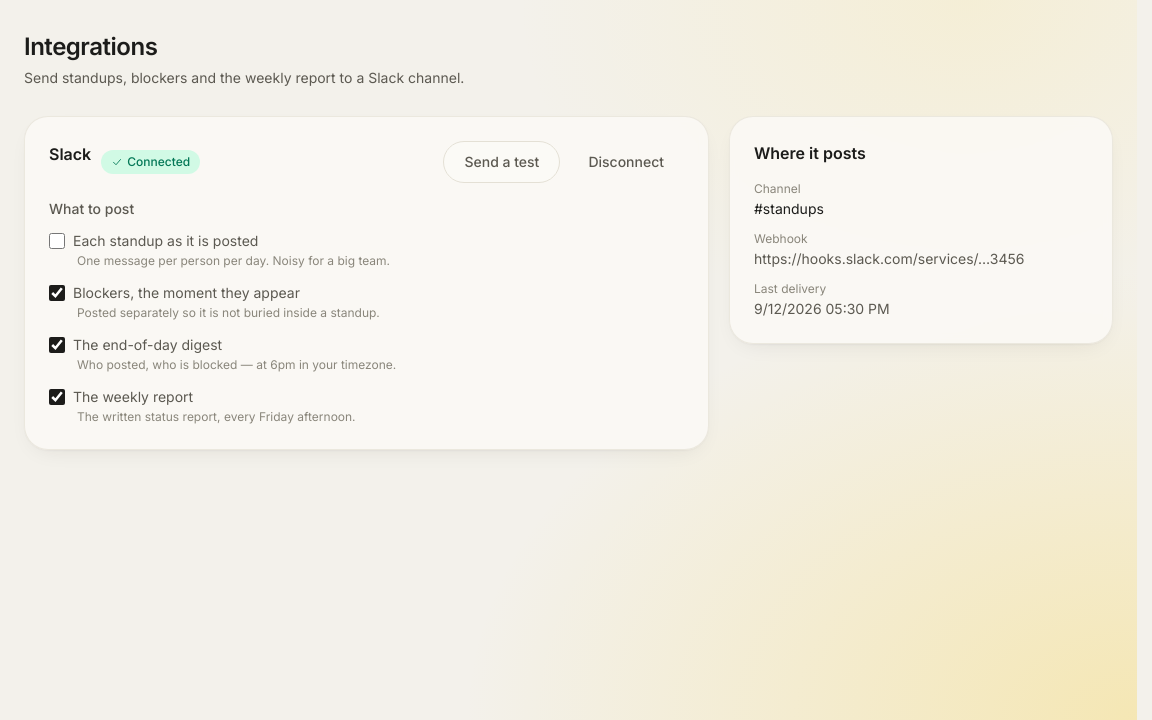
Test case: when a channel is connected › disconnects back to the empty state
The image size is (1152, 720).
Expected: the text "#standups" is shown, x1=754 y1=200 x2=824 y2=217
Click the button "Disconnect" at {"x": 626, "y": 162}, box x1=568 y1=141 x2=684 y2=183
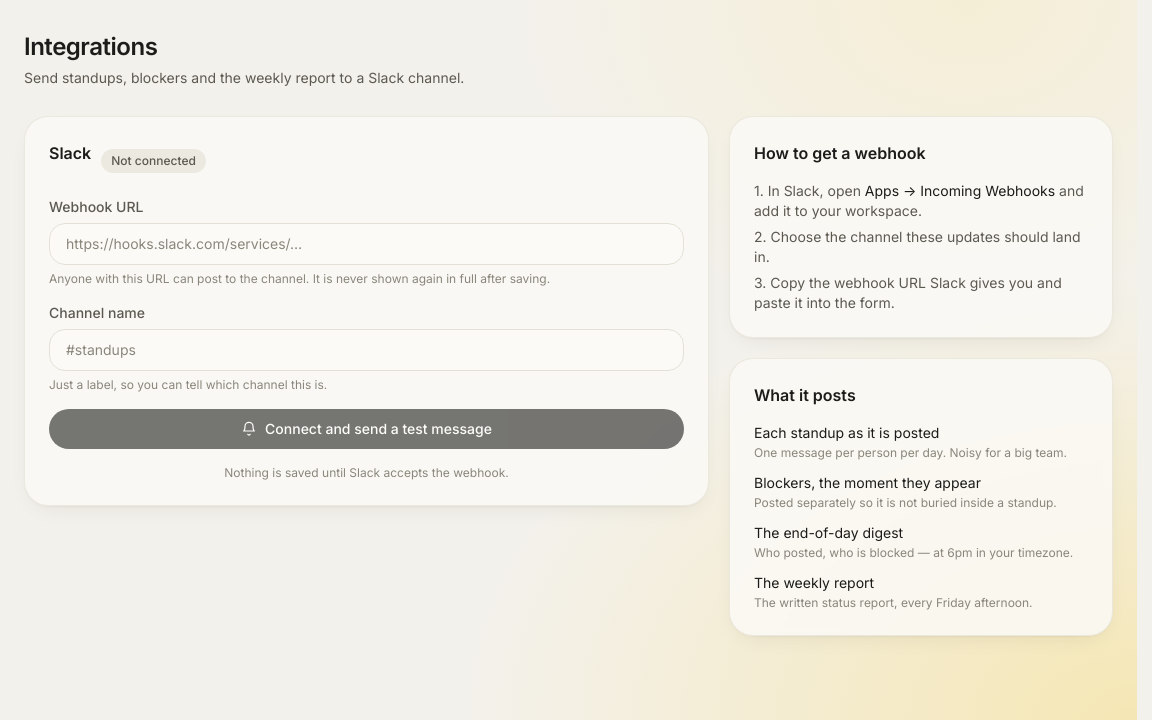
Result: the heading "How to get a webhook" is shown at x1=754 y1=143 x2=926 y2=163
